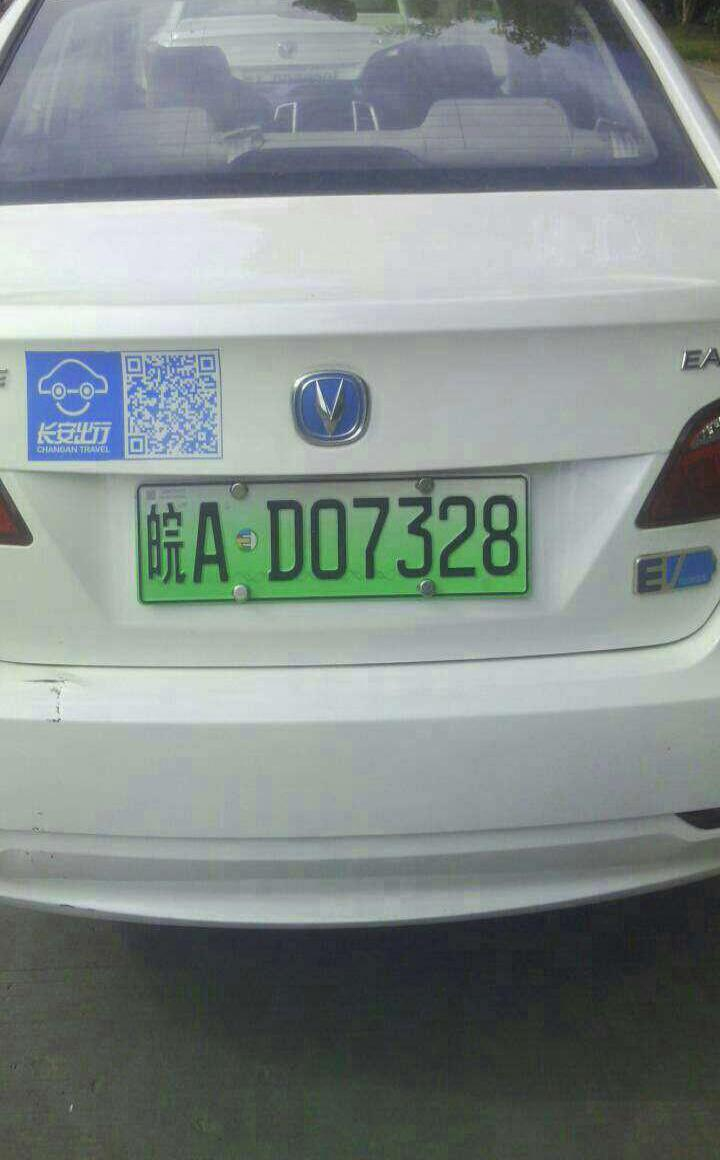car_id: (144, 470, 537, 599)
